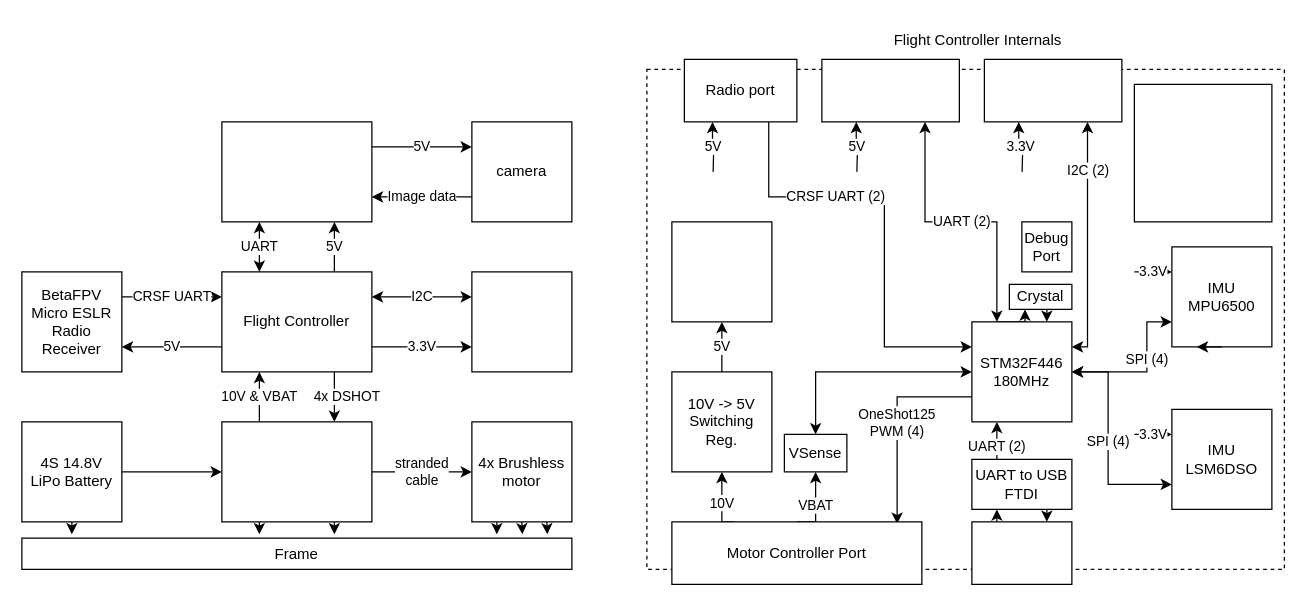
The diagram is 1306 pixels wide and 606 high, and some of its shapes have lost their labels. The centre of each missing label's shape, as x and y in pixels:
5V -> 3.3V LDO: [721,271]
Brushless 4in1 ESC/BEC: [296,471]
LEDs Rx Tx Status 5V 3.3V: [1202,152]
Nx LIDAR range modules: [521,321]
Pi Zero: [296,171]
Pi Zero Connector: [890,90]
TMF8801 LIDAR range module: [1052,90]
USB connector: [1021,552]
